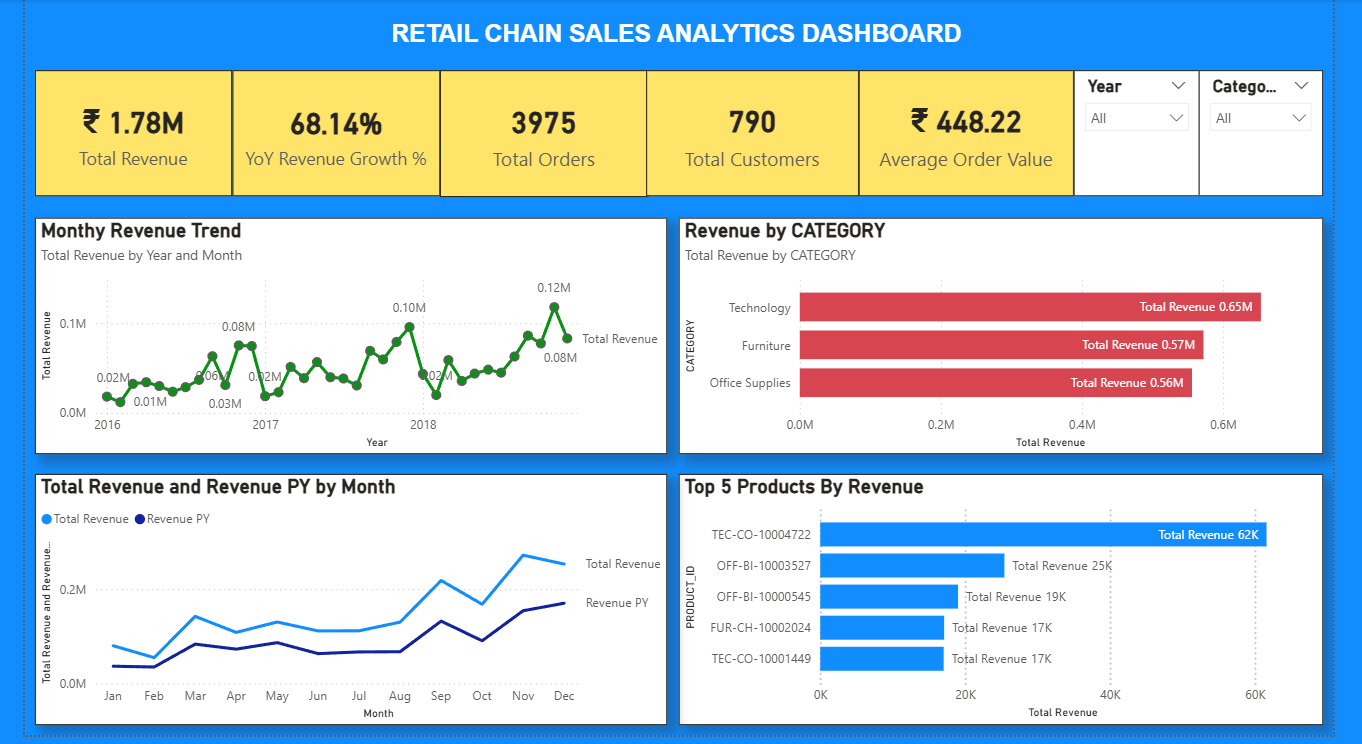

This screenshot's page, from the dashboard's own definition file:
{"tool":"powerbi","page":{"name":"Page 1","canvas":[1280,720],"ordinal":0},"visuals":[{"type":"card","fields":{"Values":["retail_sales_cleaned.Total Revenue"]},"box":[9.8,69.7,193.2,122.3],"z":0},{"type":"card","fields":{"Values":["retail_sales_cleaned.Revenue Growth %"]},"box":[203,69.7,203,122.3],"z":1000},{"type":"card","fields":{"Values":["retail_sales_cleaned.Total Orders"]},"box":[406,69.7,204.2,122.3],"z":2000},{"type":"card","fields":{"Values":["retail_sales_cleaned.Total Customers"]},"box":[608.1,70,208.1,123.1],"z":3000},{"type":"card","fields":{"Values":["retail_sales_cleaned.Average Order Value"]},"box":[816,70,210.7,123.3],"z":4000},{"type":"lineChart","title":"Monthy Revenue Trend","fields":{"Y":["retail_sales_cleaned.Total Revenue"],"Category":["Date_Table.Date.Variation.Date Hierarchy.Year","Date_Table.Date.Variation.Date Hierarchy.Month"]},"box":[10,214.3,618.6,231.4],"z":5000},{"type":"clusteredBarChart","title":" Revenue by CATEGORY","fields":{"Category":["retail_sales_cleaned.CATEGORY"],"Y":["retail_sales_cleaned.Total Revenue"]},"box":[640,214.3,630,231.4],"z":6000},{"type":"clusteredBarChart","title":"Top 5 Products By Revenue","fields":{"Category":["retail_sales_cleaned.PRODUCT_ID"],"Y":["retail_sales_cleaned.Total Revenue"]},"box":[640,464.3,630,245.7],"z":7000},{"type":"slicer","fields":{"Values":["Date_Table.Year"]},"box":[1026.4,70,123.5,123.5],"z":8000},{"type":"slicer","fields":{"Values":["retail_sales_cleaned.CATEGORY"]},"box":[1148.6,70,121.4,122.9],"z":9000},{"type":"lineChart","fields":{"Category":["Date_Table.Month"],"Y":["retail_sales_cleaned.Total Revenue","retail_sales_cleaned.Revenue PY"]},"box":[10,464.3,618.6,245.7],"z":10000},{"type":"textbox","box":[353.1,15.4,635.4,42.3],"z":11000}]}

Visuals, with their boxes in screenshot pixels (x1, y1, x2, y2), scaled from the page's 1280x720 canvas onto the 1362x744 screenshot:
card - retail_sales_cleaned.Total Revenue: locate(10, 72, 216, 198)
card - retail_sales_cleaned.Revenue Growth %: locate(216, 72, 432, 198)
card - retail_sales_cleaned.Total Orders: locate(432, 72, 649, 198)
card - retail_sales_cleaned.Total Customers: locate(647, 72, 868, 200)
card - retail_sales_cleaned.Average Order Value: locate(868, 72, 1092, 200)
"Monthy Revenue Trend" lineChart: locate(11, 221, 669, 461)
" Revenue by CATEGORY" clusteredBarChart: locate(681, 221, 1351, 461)
"Top 5 Products By Revenue" clusteredBarChart: locate(681, 480, 1351, 734)
slicer - Date_Table.Year: locate(1092, 72, 1224, 200)
slicer - retail_sales_cleaned.CATEGORY: locate(1222, 72, 1351, 199)
lineChart - Date_Table.Month x retail_sales_cleaned.Total Revenue: locate(11, 480, 669, 734)
textbox: locate(376, 16, 1052, 60)
